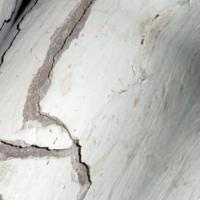crack: (0, 0, 106, 199)
